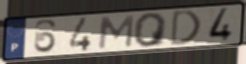4: (206, 6, 235, 44), (67, 16, 93, 53)
6: (33, 18, 59, 55)
D: (168, 8, 203, 48)
M: (97, 14, 136, 50)
Q: (133, 11, 170, 49)
